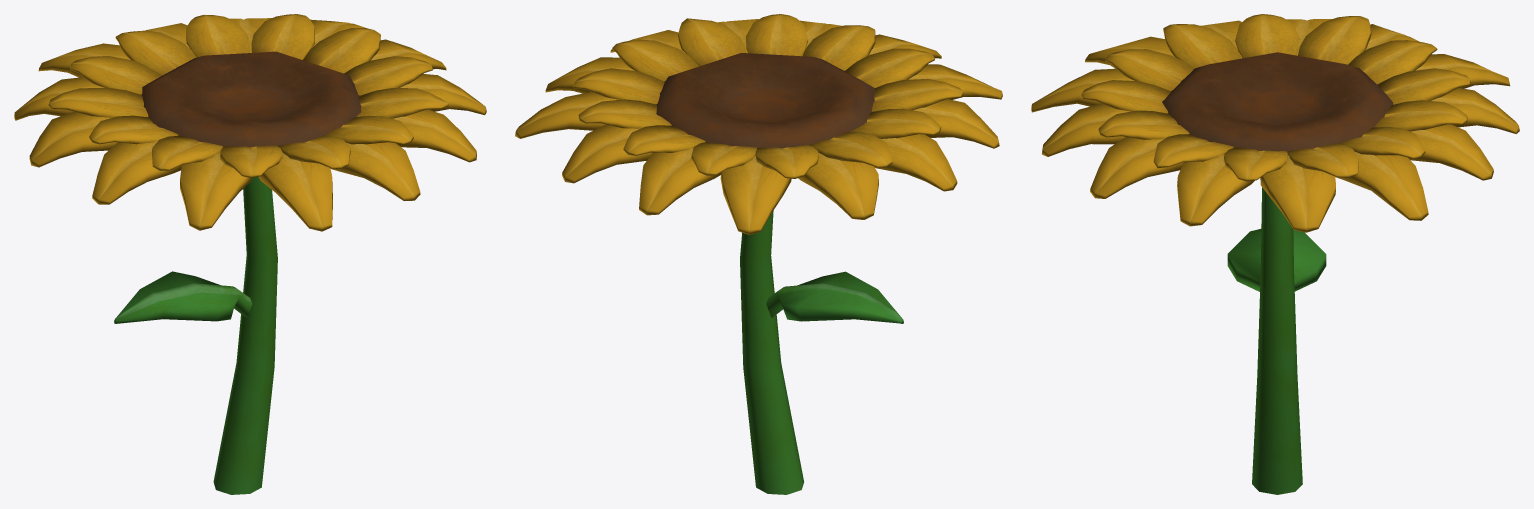
The model's file is GirassolBaixo.fbx.
3 renders of one model, left to right at view 1: azimuth 30°, elevation 25°; view 2: azimuth 150°, elevation 25°; view 3: azimuth 270°, elevation 25°, orthographic. The views are drawn at different scales.
Parts seen in each view (by area): view 1: Girassol.001; view 2: Girassol.001; view 3: Girassol.001.
Part boxes in pixels (x1,y1,x2,y2): Girassol.001: [14, 14, 486, 494]; Girassol.001: [515, 14, 1002, 494]; Girassol.001: [1031, 14, 1519, 494].
Size of the model in its own units: 162 by 148 by 164.
